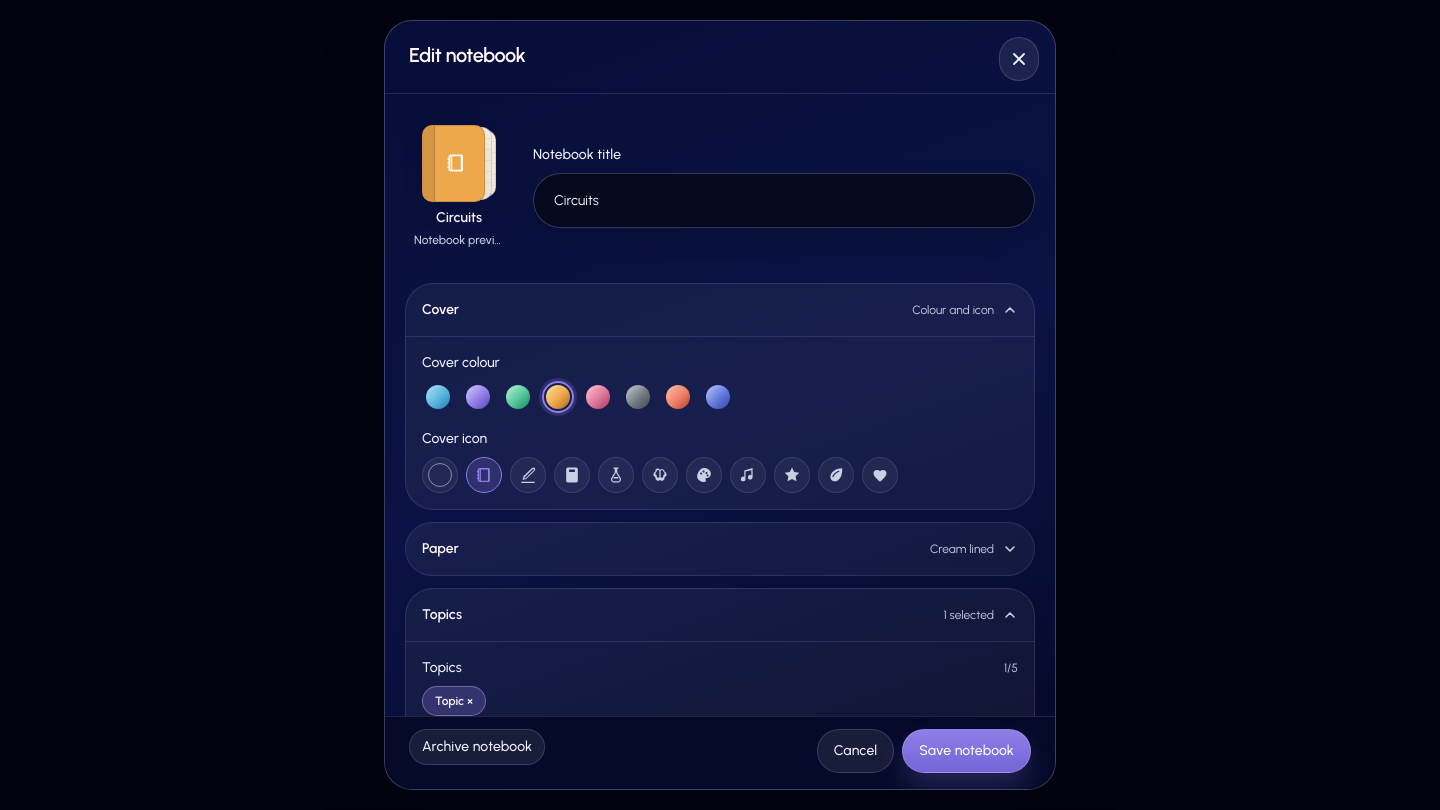
NotebookEditorDialog saving › clears a previous error when the retry succeeds
Click the button "Save notebook": click(967, 751) top-left (902, 729), bottom-right (1031, 773)
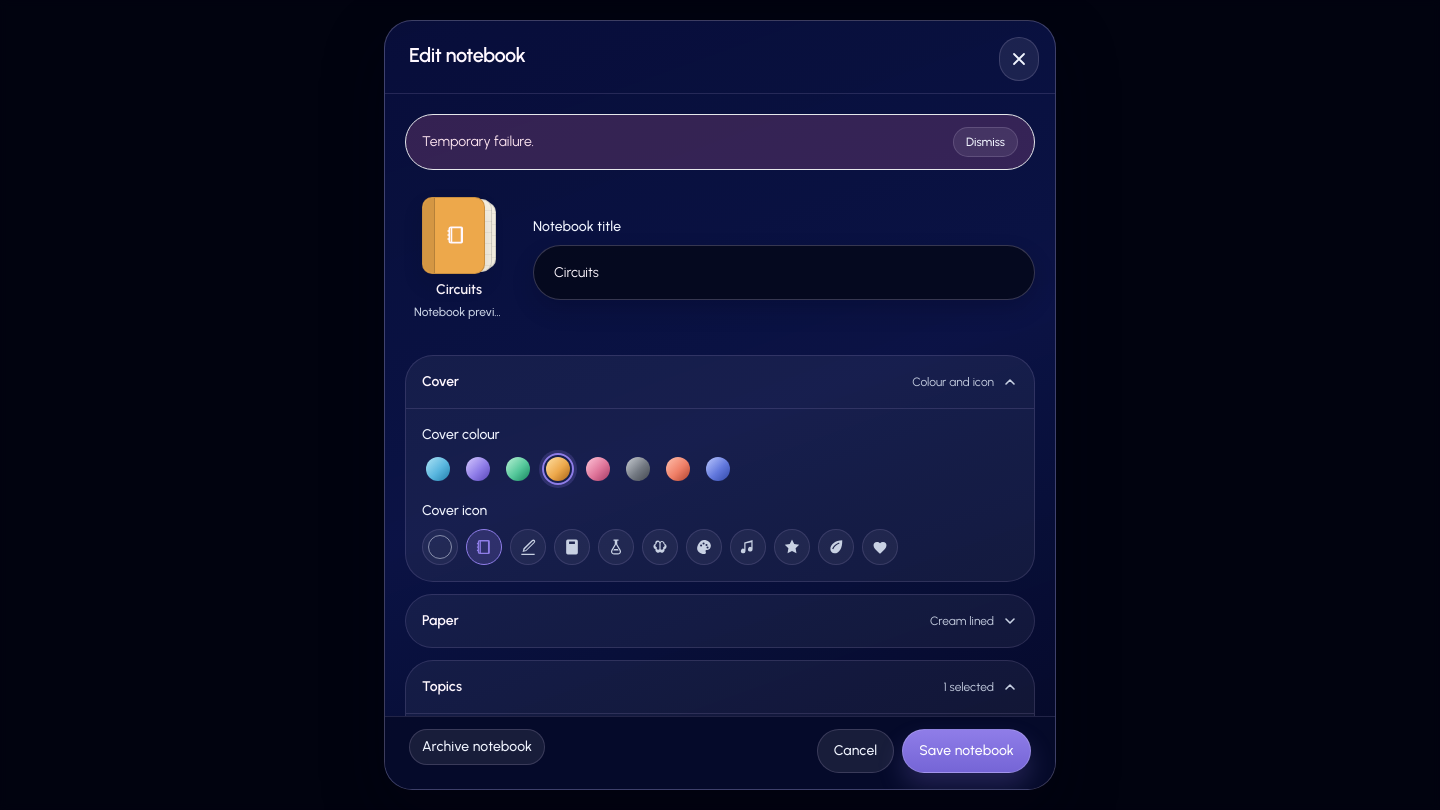
Check: the text "Temporary failure." is shown, box top-left (422, 132), bottom-right (534, 152)
Click the button "Save notebook": click(967, 751) top-left (902, 729), bottom-right (1031, 773)
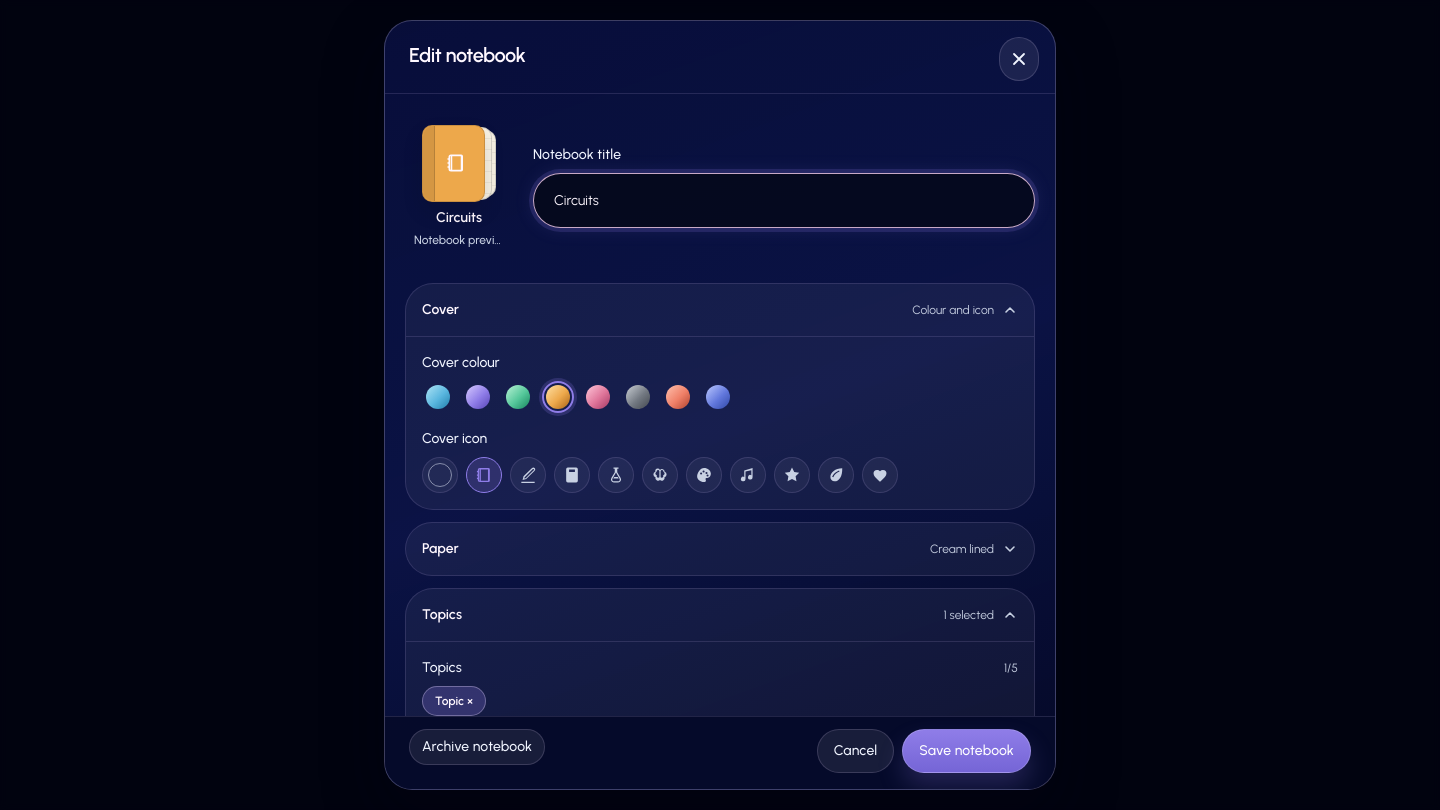
Check: the text "Temporary failure." is gone
